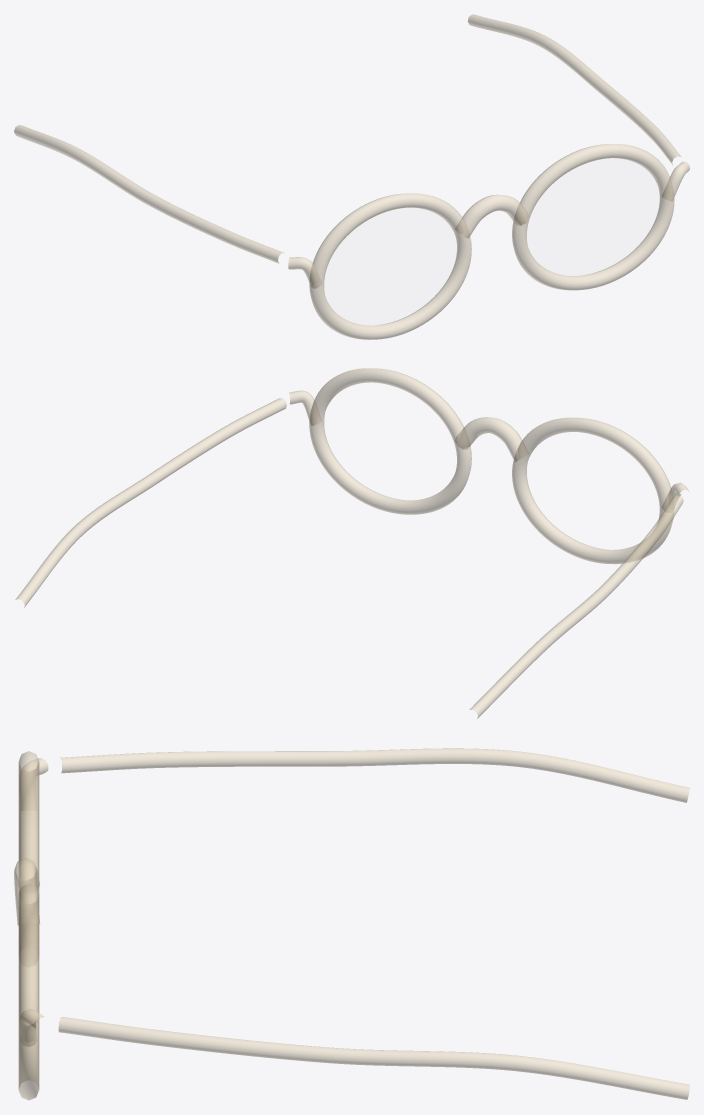
File: mist-clear.glb
The picture shows the model from 3 angles, top to bottom: view 1: azimuth 30°, elevation 25°; view 2: azimuth 150°, elevation 25°; view 3: azimuth 270°, elevation 25°; orthographic projection. The views are drawn at different scales.
Visible parts, largest first — view 1: rim_right, rim_left, temple_right, temple_left, bridge, endpiece_right, endpiece_left; view 2: rim_left, rim_right, temple_left, temple_right, bridge, endpiece_left; view 3: temple_left, temple_right, rim_left, rim_right, bridge, endpiece_left.
Boxes of the visible parts, bbox=[...] form: rim_right: bbox=[309, 193, 471, 339]; rim_left: bbox=[512, 144, 674, 290]; temple_right: bbox=[14, 125, 284, 263]; temple_left: bbox=[468, 14, 681, 164]; bridge: bbox=[455, 194, 529, 238]; endpiece_right: bbox=[288, 257, 321, 288]; endpiece_left: bbox=[662, 161, 689, 201]; rim_left: bbox=[309, 368, 471, 514]; rim_right: bbox=[512, 417, 673, 564]; temple_left: bbox=[15, 398, 286, 607]; temple_right: bbox=[469, 494, 683, 718]; bridge: bbox=[455, 417, 528, 461]; endpiece_left: bbox=[289, 390, 321, 425]; temple_left: bbox=[58, 1017, 689, 1099]; temple_right: bbox=[60, 748, 689, 802]; rim_left: bbox=[18, 884, 39, 1100]; rim_right: bbox=[18, 751, 39, 954]; bridge: bbox=[14, 858, 39, 925]; endpiece_left: bbox=[19, 1009, 44, 1046].
Size of the model in its own units: 0.1643 by 0.0466 by 0.1507.
